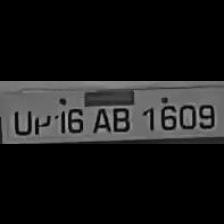0: (176, 100, 196, 128)
1: (137, 103, 157, 131), (56, 106, 68, 132)
6: (156, 100, 176, 130), (68, 104, 86, 134)
9: (195, 100, 217, 128)
A: (88, 104, 110, 132)
B: (108, 103, 134, 131)
U: (10, 106, 32, 134), (31, 107, 51, 133)
